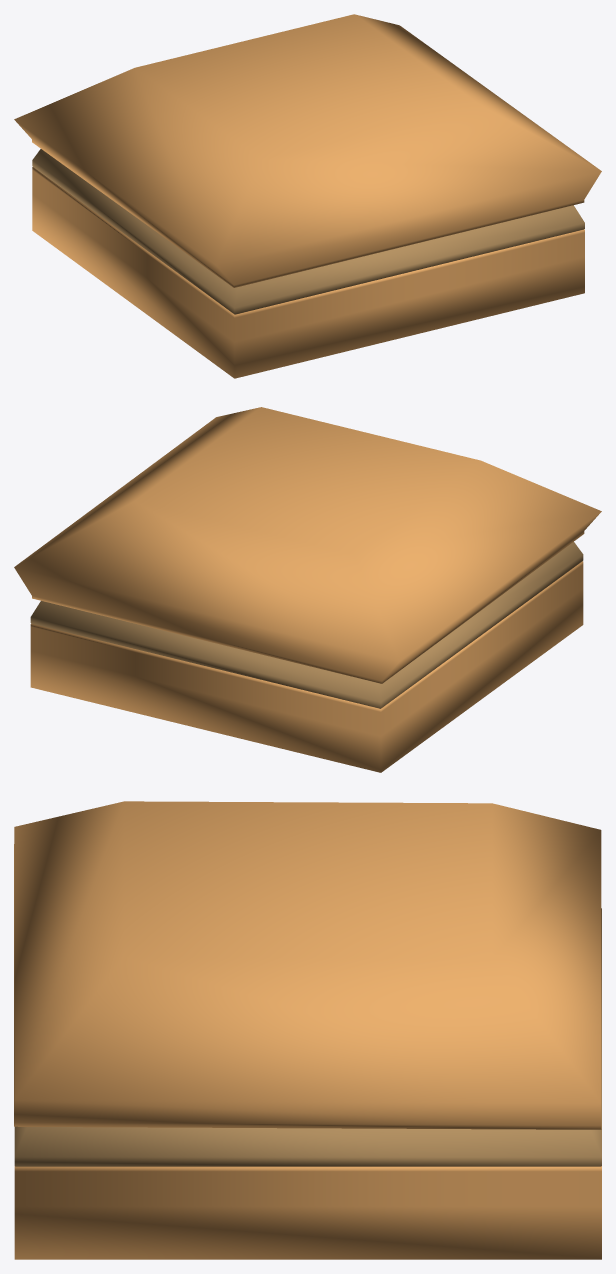
Rendered from hamburger.glb.
3 renders of one model, top to bottom at view 1: azimuth 30°, elevation 25°; view 2: azimuth 150°, elevation 25°; view 3: azimuth 270°, elevation 25°, orthographic. The views are drawn at different scales.
Visible parts, largest first — view 1: Cube.002, Cube, Cube.001; view 2: Cube.002, Cube, Cube.001; view 3: Cube.002, Cube, Cube.001.
Part boxes in pixels (x1,y1,x2,y2): Cube.002: [14, 14, 601, 287]; Cube: [32, 167, 584, 378]; Cube.001: [32, 149, 584, 314]; Cube.002: [14, 407, 601, 683]; Cube: [30, 561, 583, 772]; Cube.001: [30, 542, 583, 708]; Cube.002: [14, 801, 601, 1129]; Cube: [14, 1166, 601, 1259]; Cube.001: [14, 908, 601, 1166].
Size of the model in its own units: 11.38 by 4.97 by 10.35.
